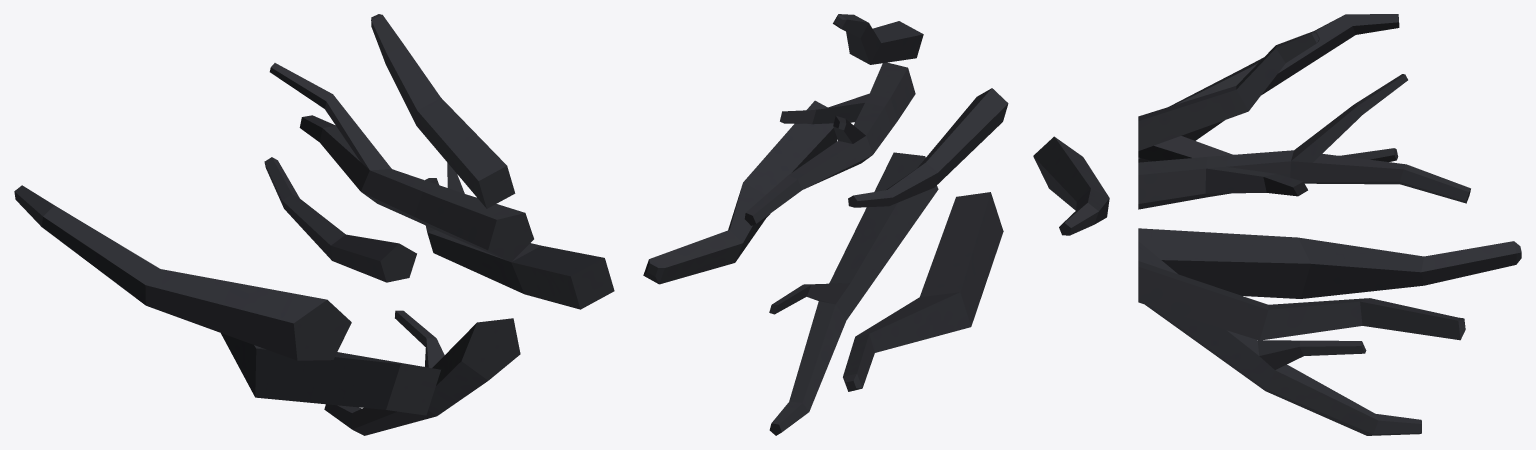
Rendered from all_share_dead_tree_2.FBX.
3 views of the same model, side by side, from view 1: azimuth 30°, elevation 25°; view 2: azimuth 150°, elevation 25°; view 3: azimuth 270°, elevation 25° (orthographic). The views are drawn at different scales.
Parts seen in each view (by area): view 1: winter_night_stick_2; view 2: winter_night_stick_2; view 3: winter_night_stick_2.
Boxes of the visible parts, left/top/right/bottom form: winter_night_stick_2: left=14, top=14, right=614, bottom=435; winter_night_stick_2: left=643, top=14, right=1109, bottom=435; winter_night_stick_2: left=1138, top=14, right=1521, bottom=435.
Size of the model in its own units: 157 by 145 by 127.
